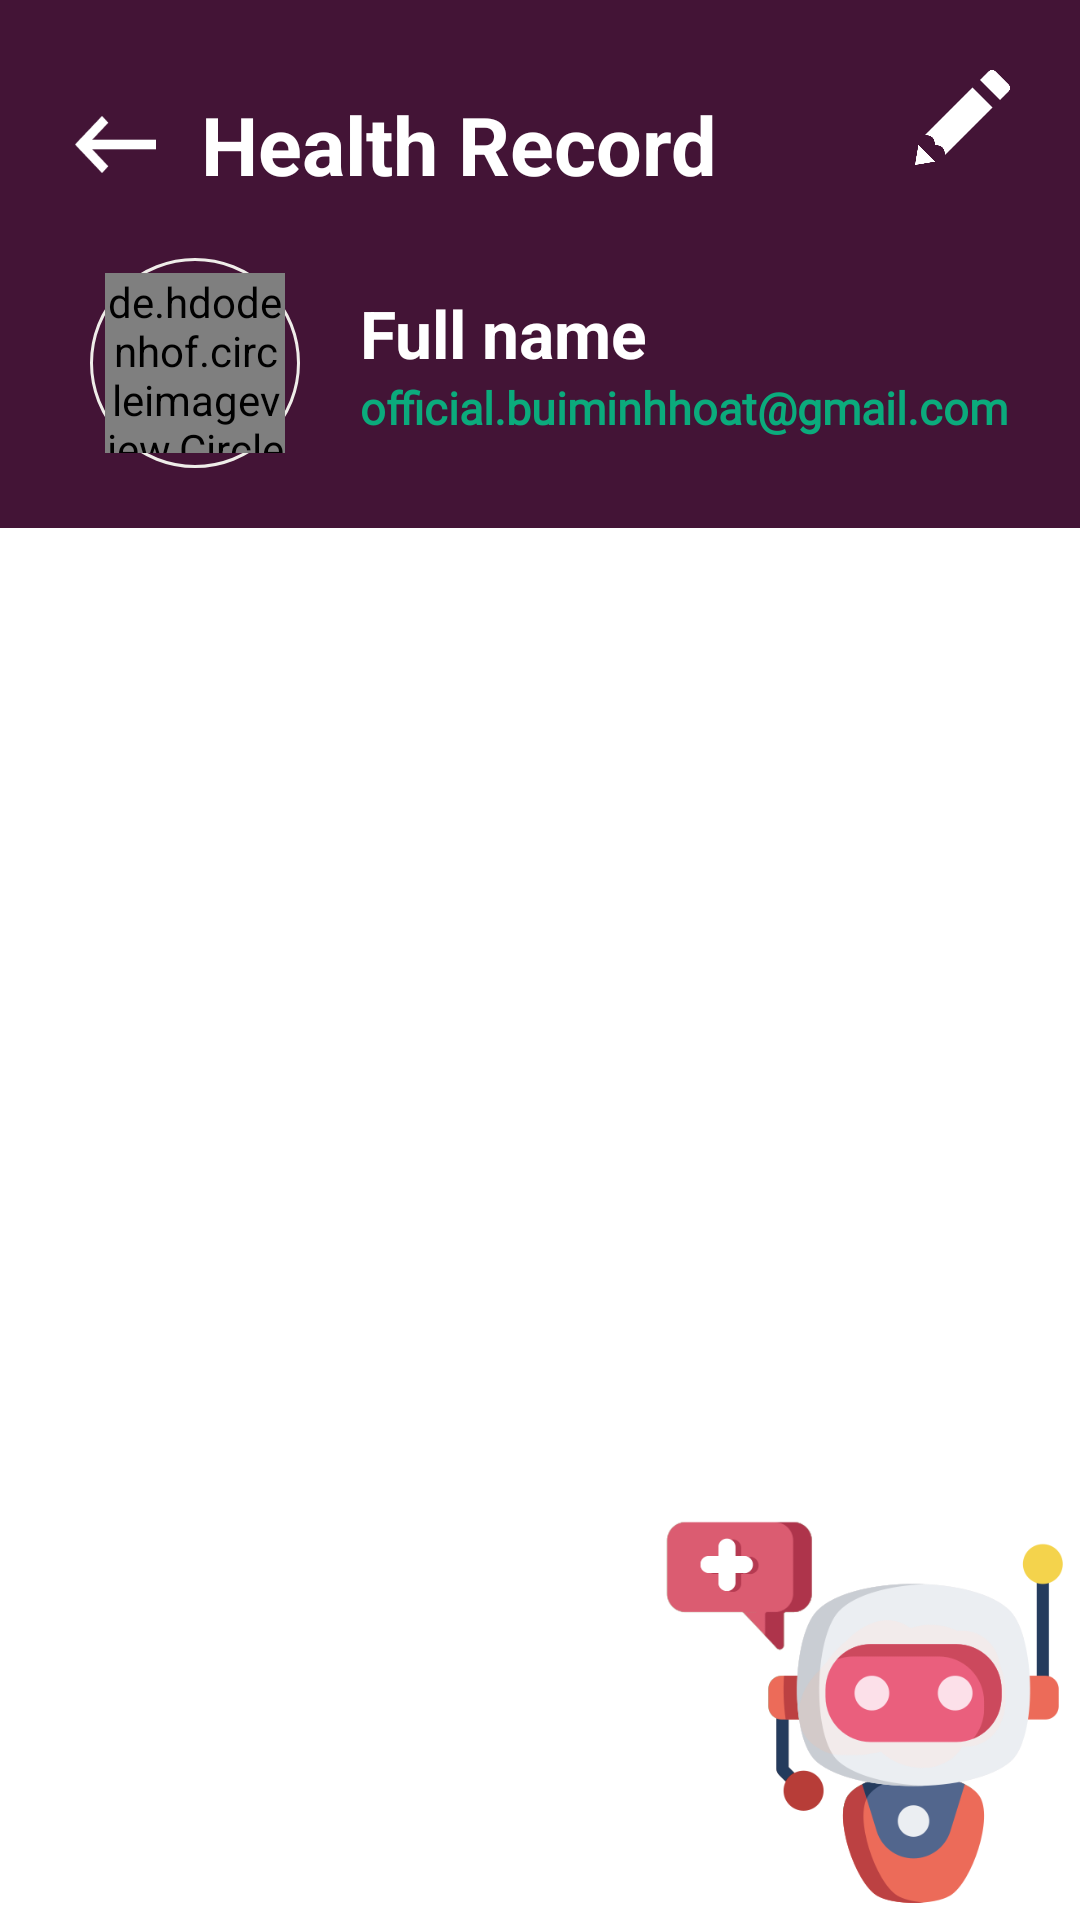

Screen size 1080 x 1920. Icon name, then its center in pixels as [x,y]:
edit health record: [962,117]
